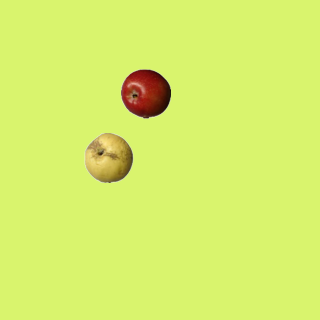Apple Braeburn: (120, 68, 170, 118)
Apple Golden 1: (83, 132, 133, 182)
